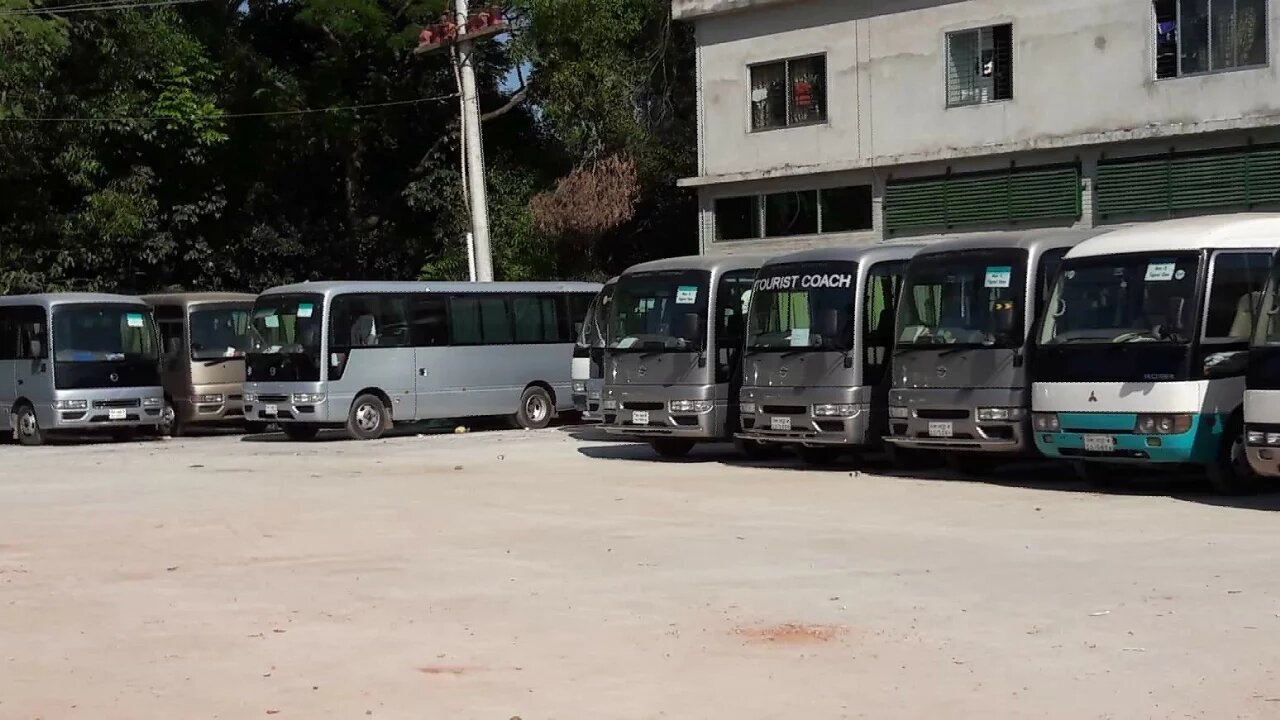minibus: (1031, 216, 1280, 473), (247, 283, 575, 435), (735, 246, 890, 464), (887, 230, 1032, 455), (595, 253, 734, 443), (1, 293, 171, 436), (154, 290, 246, 422)
